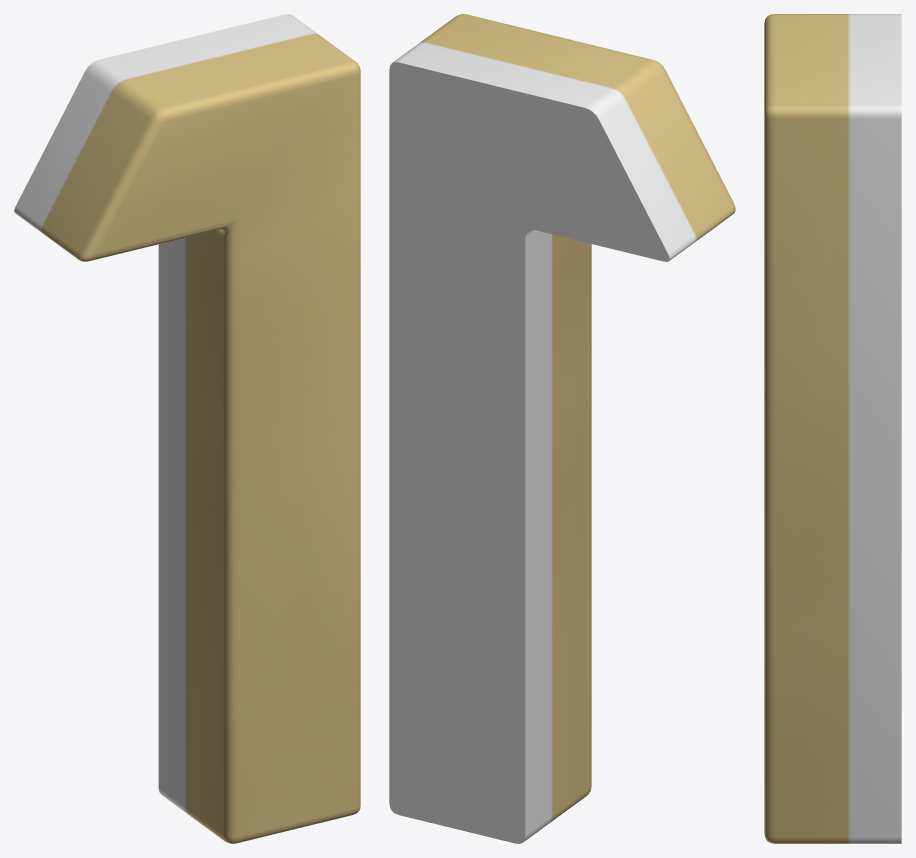
The model's file is LettersLightUp01_1.FBX.
The picture shows the model from 3 angles, left to right: view 1: azimuth 30°, elevation 25°; view 2: azimuth 150°, elevation 25°; view 3: azimuth 270°, elevation 25°; orthographic projection.
Parts seen in each view (by area): view 1: LettersLightUp01_1; view 2: LettersLightUp01_1; view 3: LettersLightUp01_1.
Boxes of the visible parts, bbox=[...] form: LettersLightUp01_1: bbox=[14, 14, 360, 843]; LettersLightUp01_1: bbox=[389, 14, 735, 843]; LettersLightUp01_1: bbox=[764, 14, 901, 843].
Size of what is drawn, in the model's own units: 0.2339 by 0.6001 by 0.1012.
